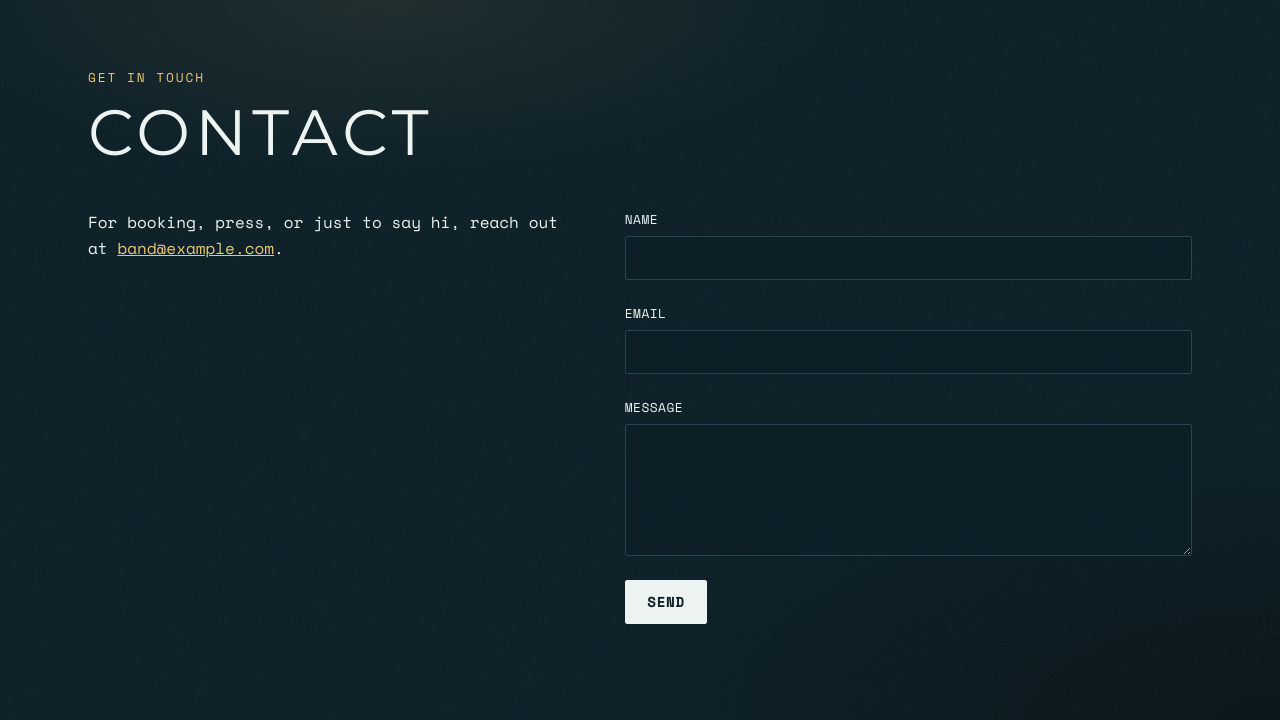
Test: Contact › shows the error state with a mailto fallback when no API URL is configured
Step 1. Type "Jane" into the field labelled "Name" → [908, 258], box [625,236,1192,280]
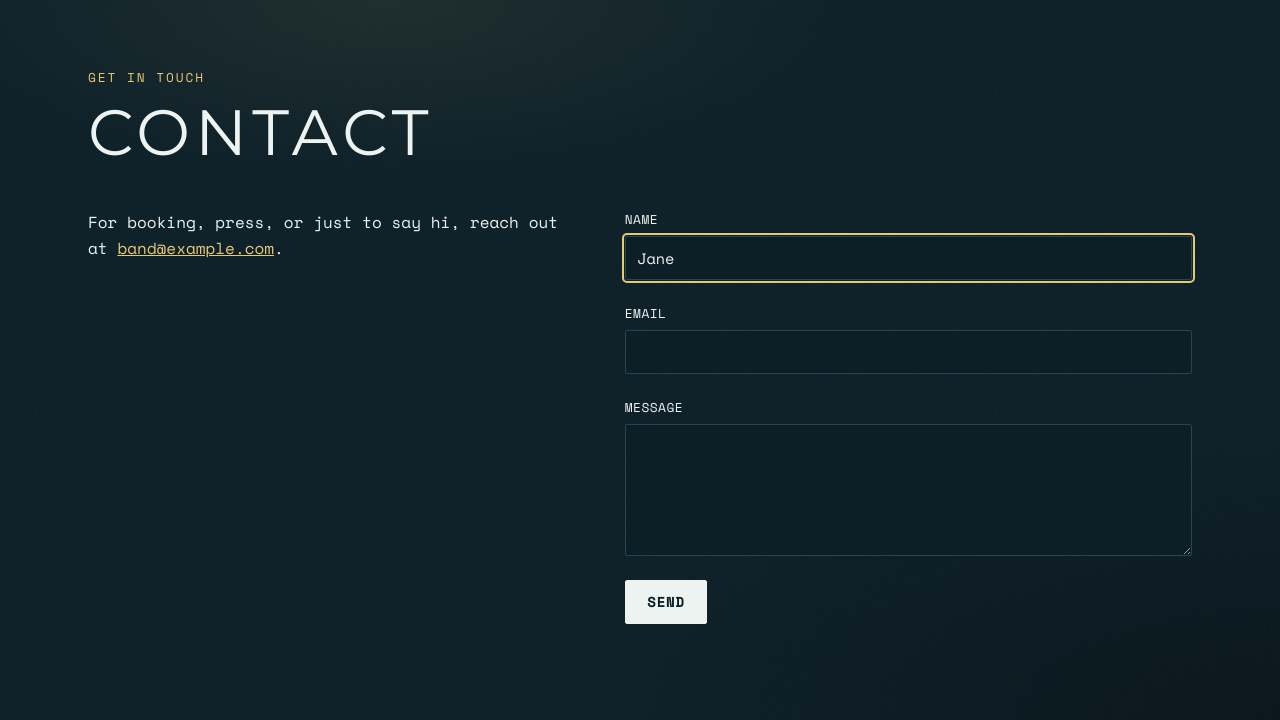
Step 2. Type "jane@example.com" into the field labelled "Email" → [908, 352], box [625,330,1192,374]
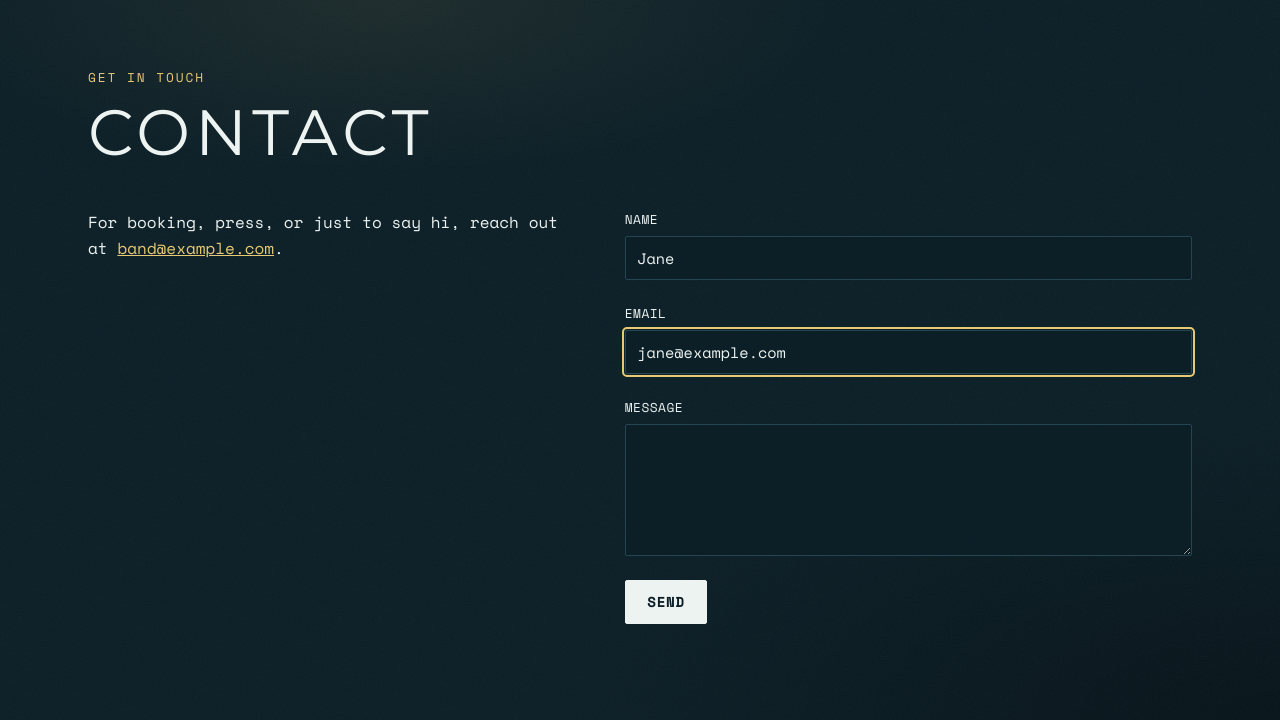
Step 3. Type "Hello!" into the text box labelled "Message" → [908, 490], box [625,424,1192,556]
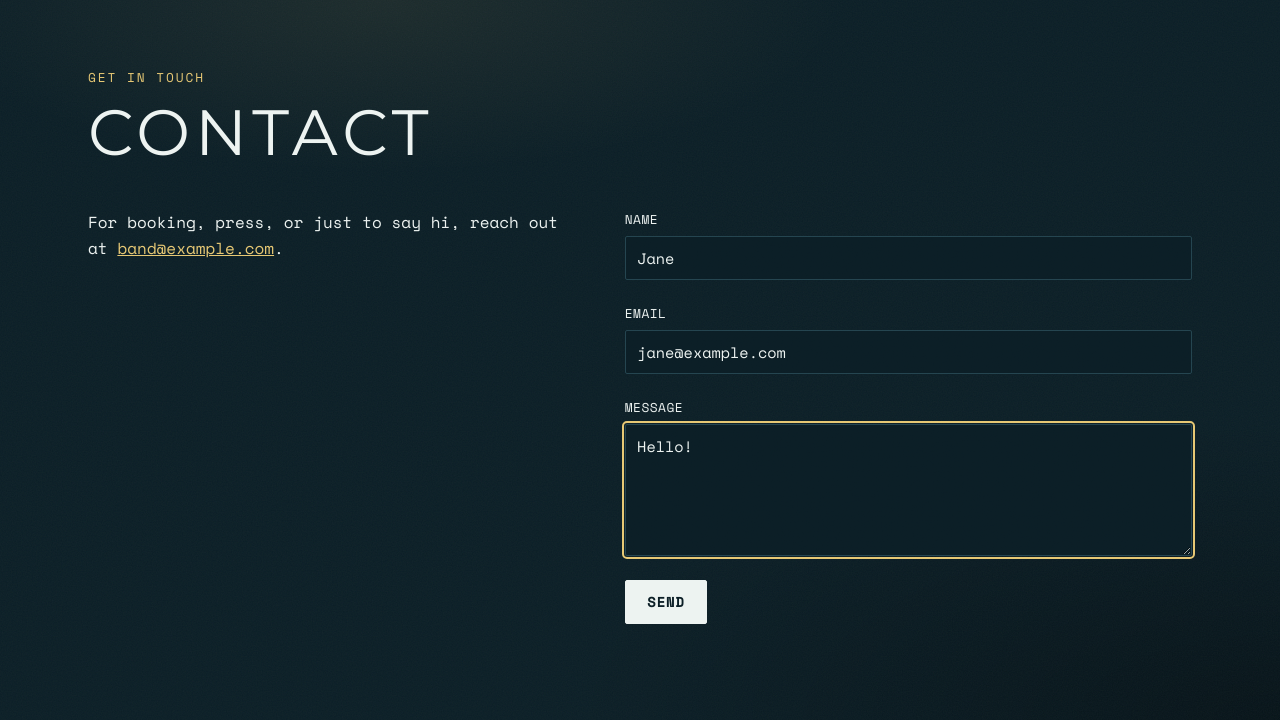
Step 4. Click the button "Send" → [666, 602], box [625,580,707,624]
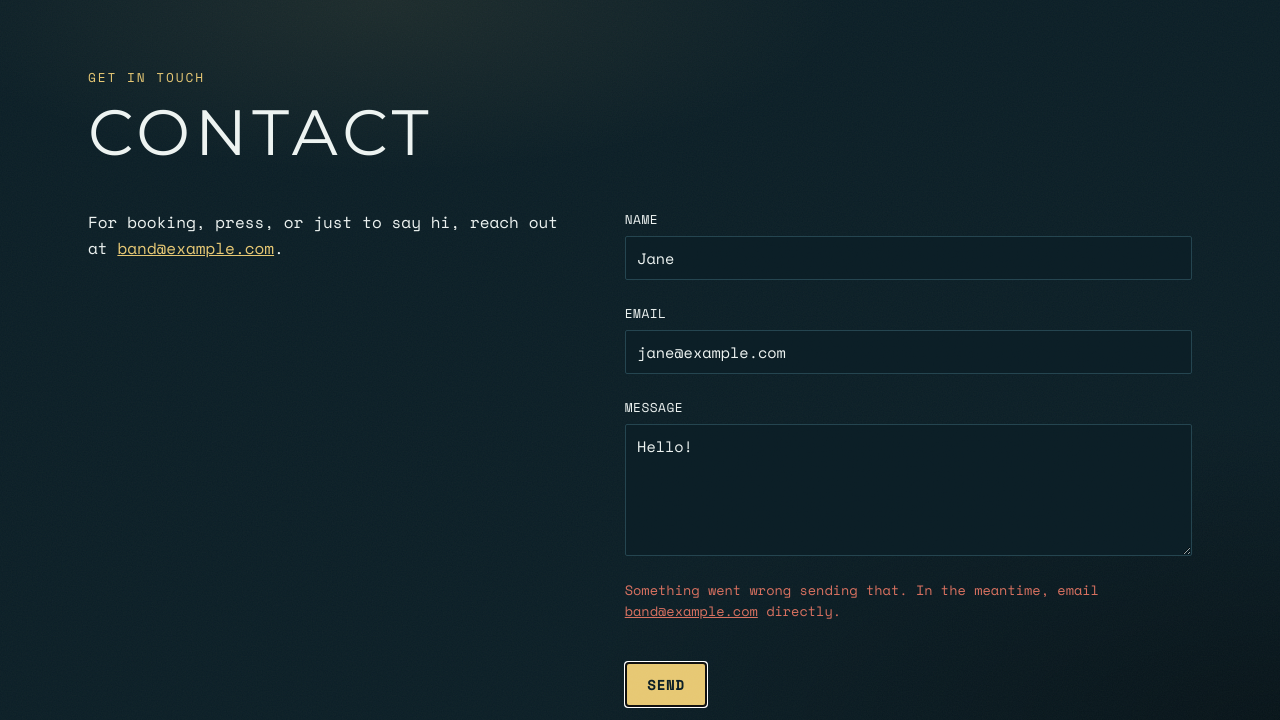
Now the message shows "Something went wrong", box [625,580,1099,600]
Now the link "band@example.com" next to "directly." is shown, box [625,601,758,621]
